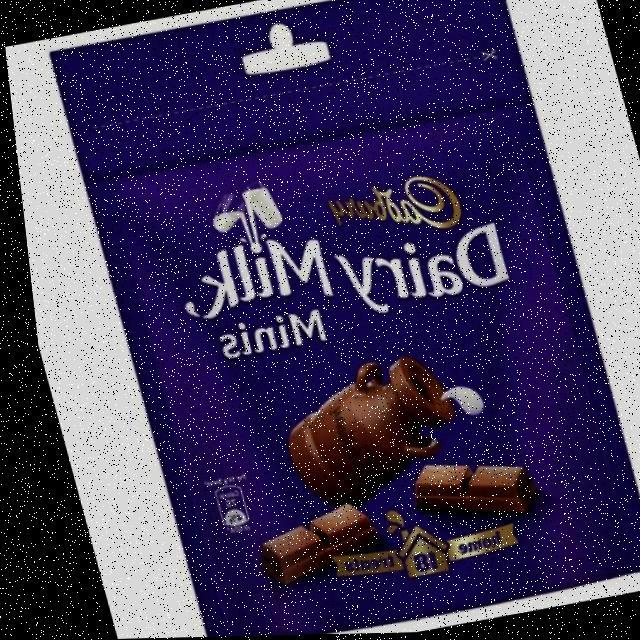cadbury_chocolate: (55, 7, 640, 640)
